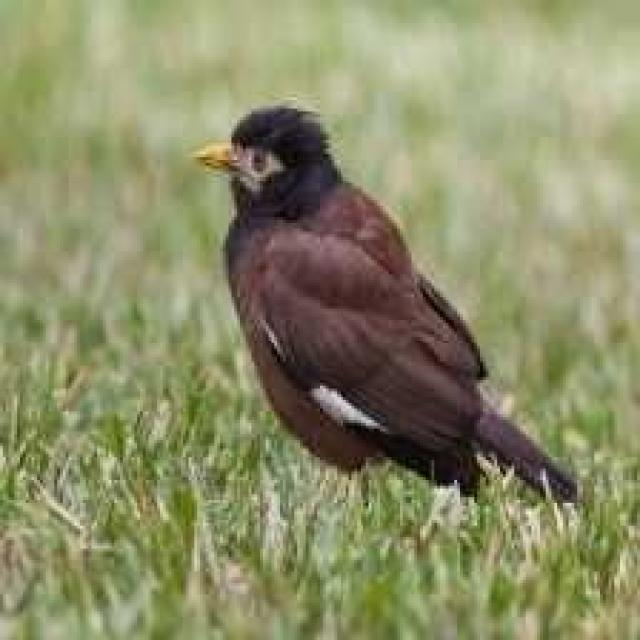bird: (189, 96, 581, 515)
